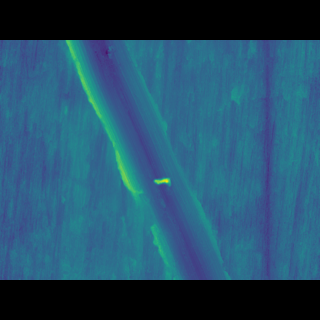Loch: (63, 69, 231, 249)
